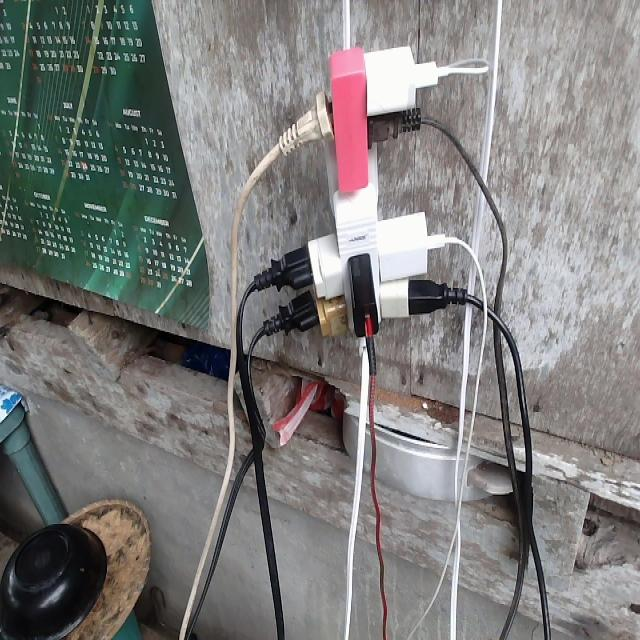-: (272, 44, 445, 344)
